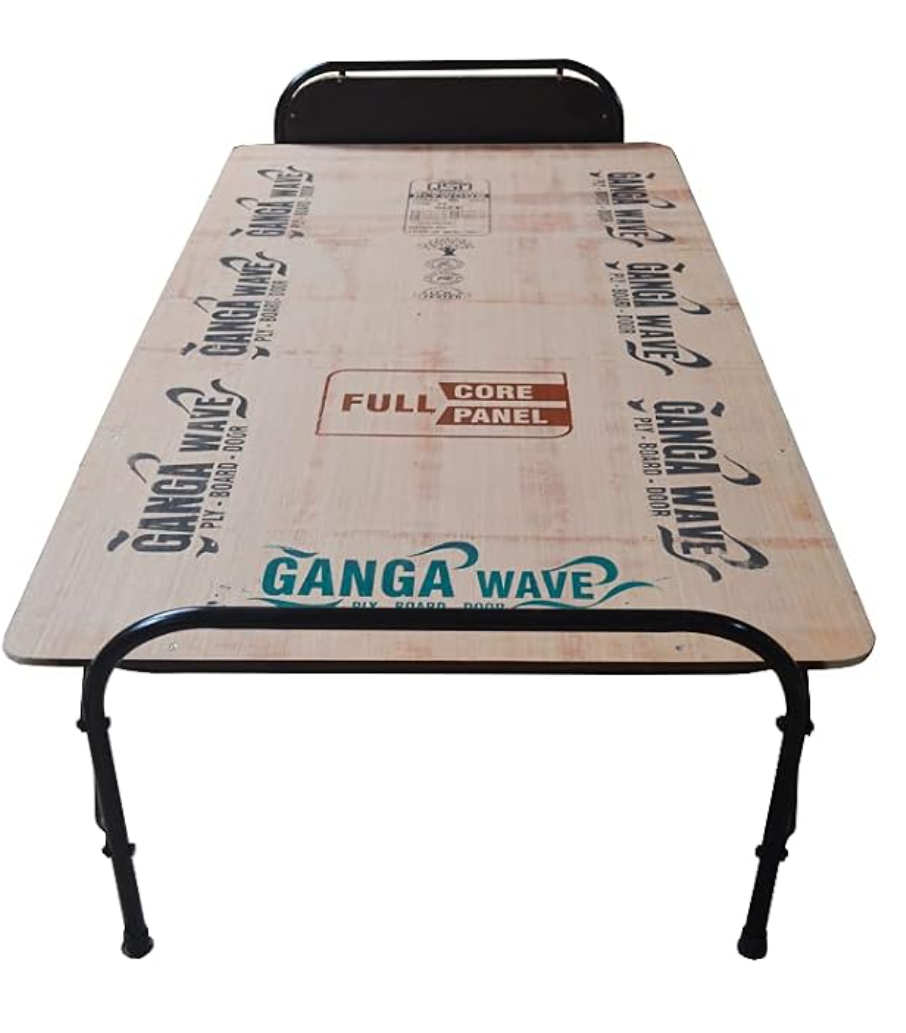cot: (3, 42, 875, 1026)
